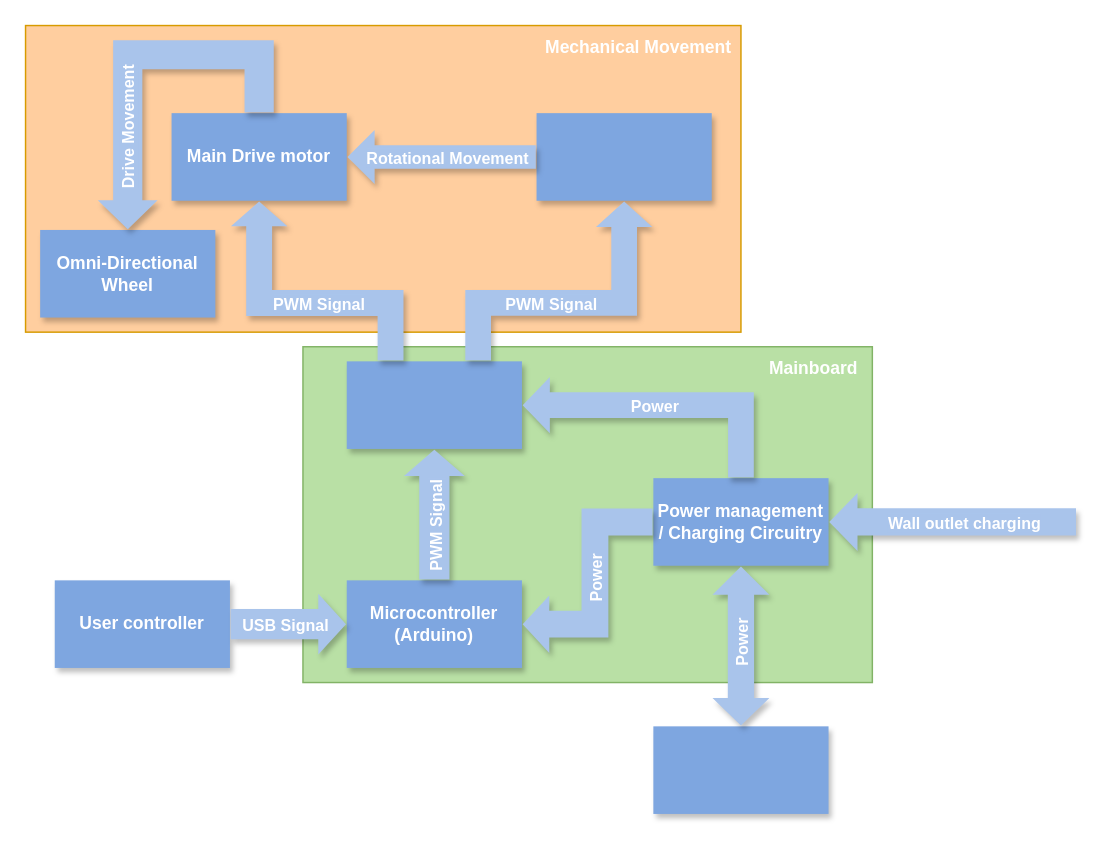
Some shapes in this 1101 by 850 pixel diagram are drawn without their labels. The shapes that lost their labels are listed below. From the top down, each one's centre as x and y in pixels, then its label:
At (x=625, y=158): "Rotational Motor".
At (x=435, y=406): "Motor Controller".
At (x=742, y=771): "Battery".
